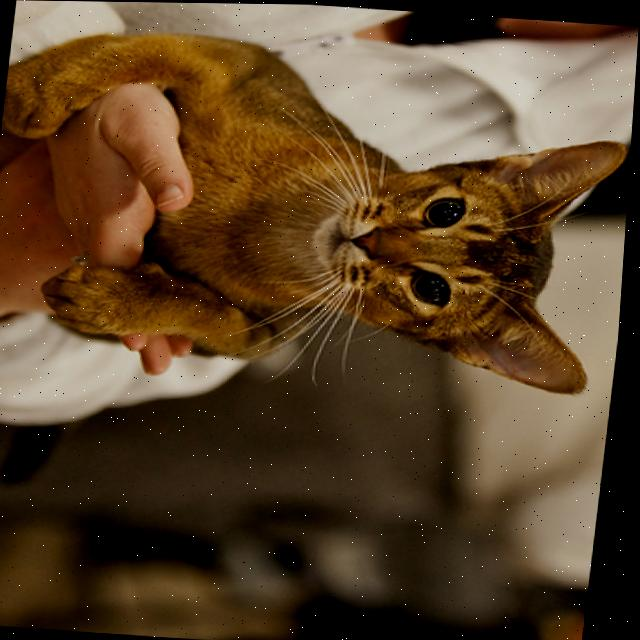Abyssinian: (0, 18, 639, 395)
